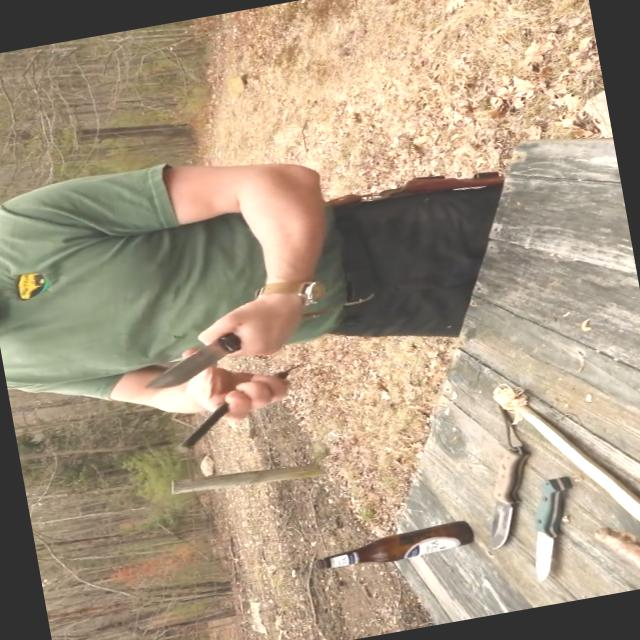knife: (123, 298, 307, 397)
